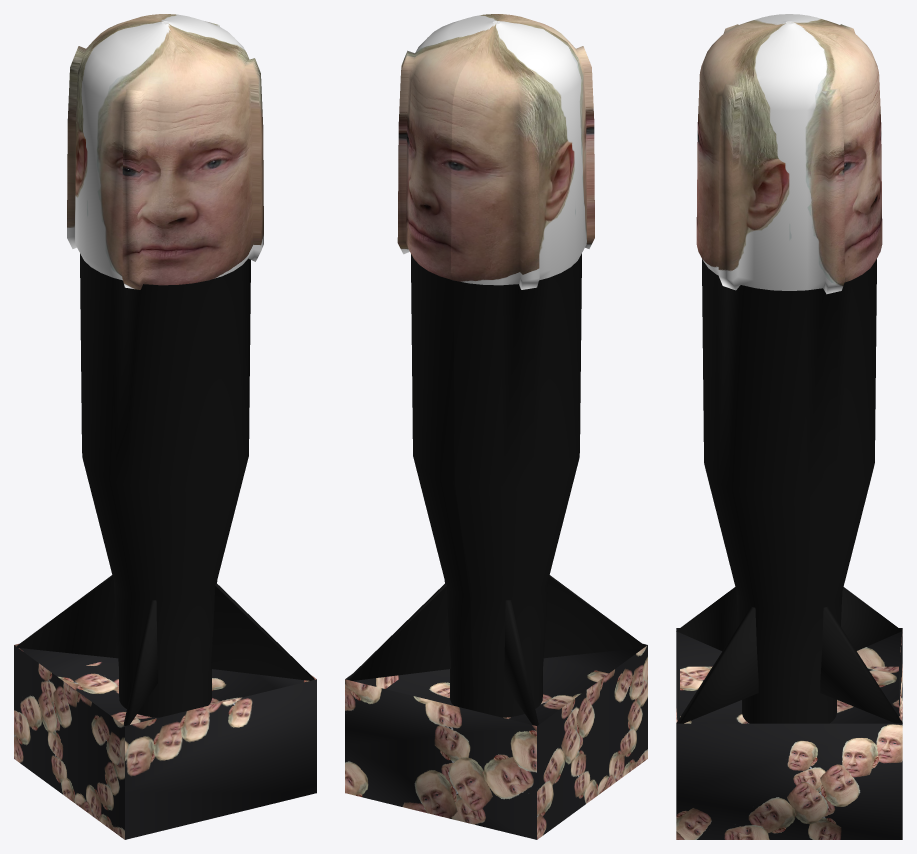
File: Putin_littleman.obj
3 views of the same model, side by side, from view 1: azimuth 30°, elevation 25°; view 2: azimuth 150°, elevation 25°; view 3: azimuth 270°, elevation 25° (orthographic). The views are drawn at different scales.
Parts seen in each view (by area): view 1: Putin_littleman; view 2: Putin_littleman; view 3: Putin_littleman.
Boxes of the visible parts, x1,y1,x2,y2 form: Putin_littleman: (14,14,316,839); Putin_littleman: (345,14,647,839); Putin_littleman: (676,14,902,839).
Size of the model in its own units: 1.29 by 4.85 by 1.3.
Materials: 3 (2 with a texture image).
